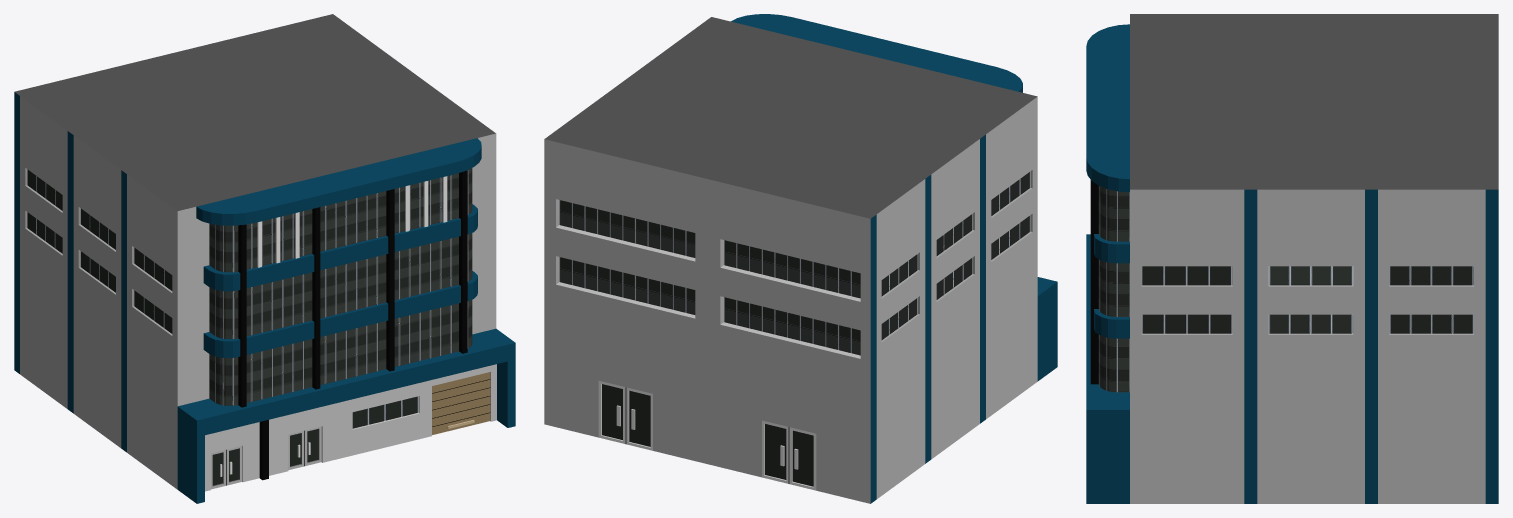
The picture shows the model from 3 angles, left to right: view 1: azimuth 30°, elevation 25°; view 2: azimuth 150°, elevation 25°; view 3: azimuth 270°, elevation 25°; orthographic projection. The views are drawn at different scales.
Parts seen in each view (by area): view 1: BB-030; view 2: BB-030; view 3: BB-030.
Part boxes in pixels (box(x1,y1,x2,y2)): BB-030: box(14, 14, 515, 503); BB-030: box(544, 14, 1057, 503); BB-030: box(1086, 14, 1498, 503).
Size of what is drawn, in the model's own units: 20 by 16.7 by 19.86.
